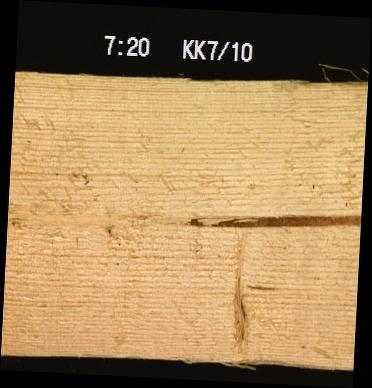small_knot: (94, 215, 123, 238), (7, 211, 33, 235)
